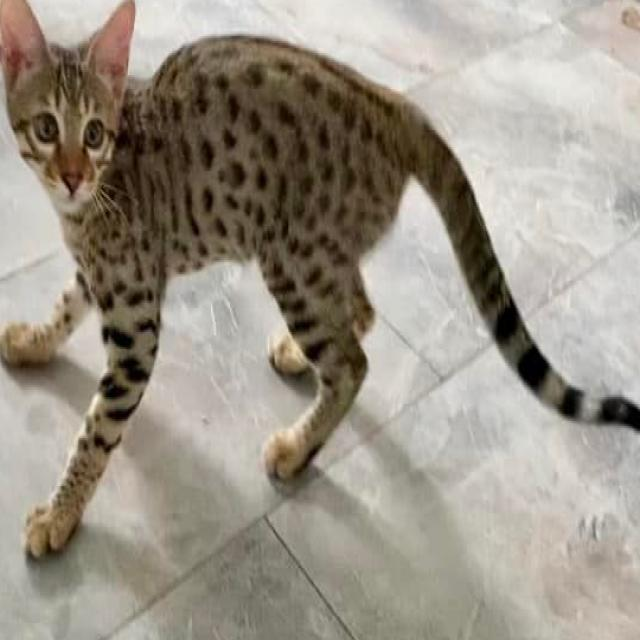Savannah: (0, 0, 640, 563)
